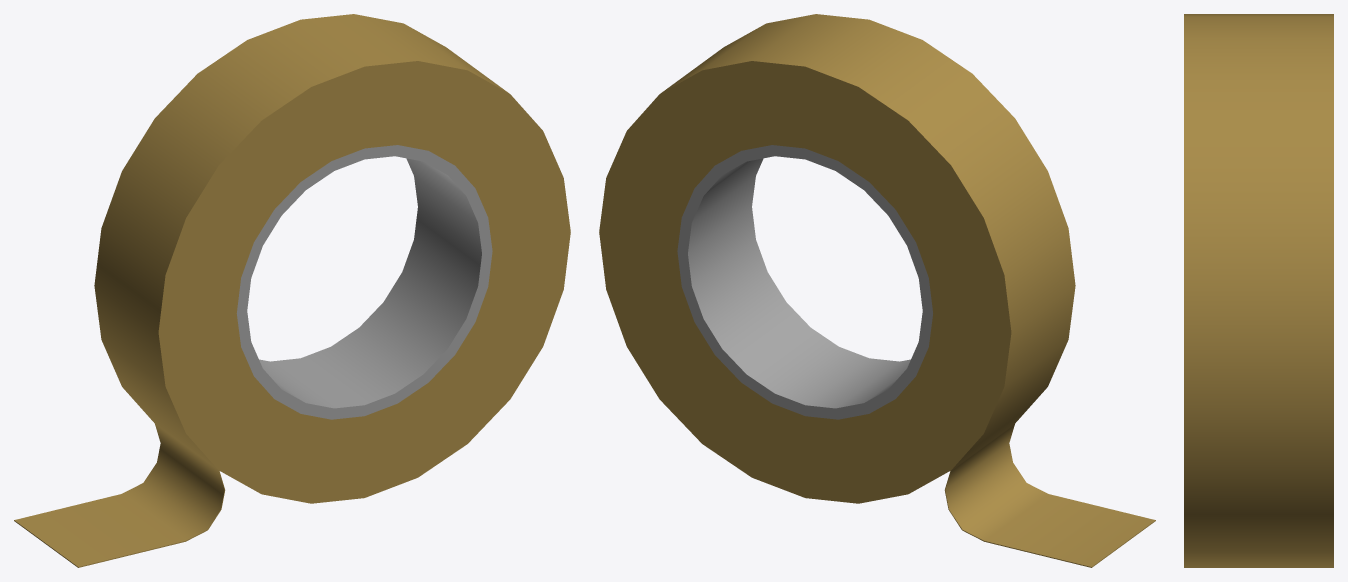
The model's file is rouleau-de-ruban-adhesif.obj.
3 views of the same model, side by side, from view 1: azimuth 30°, elevation 25°; view 2: azimuth 150°, elevation 25°; view 3: azimuth 270°, elevation 25° (orthographic). The views are drawn at different scales.
Visible parts, largest first — view 1: rouleau_Cylinder; view 2: rouleau_Cylinder; view 3: rouleau_Cylinder.
Boxes of the visible parts, x1,y1,x2,y2 form: rouleau_Cylinder: [14, 14, 570, 567]; rouleau_Cylinder: [599, 14, 1155, 567]; rouleau_Cylinder: [1184, 14, 1333, 567].
Bounding box in the file's own units: 15.13 × 12.67 × 3.41.
